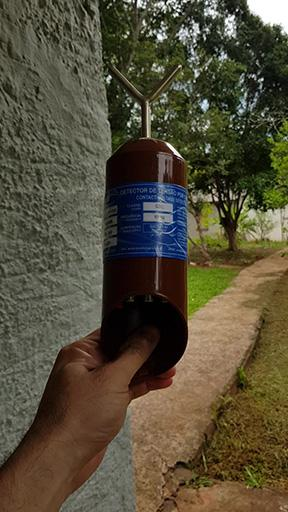Detector_Tensao_Contato: (102, 62, 189, 378)
